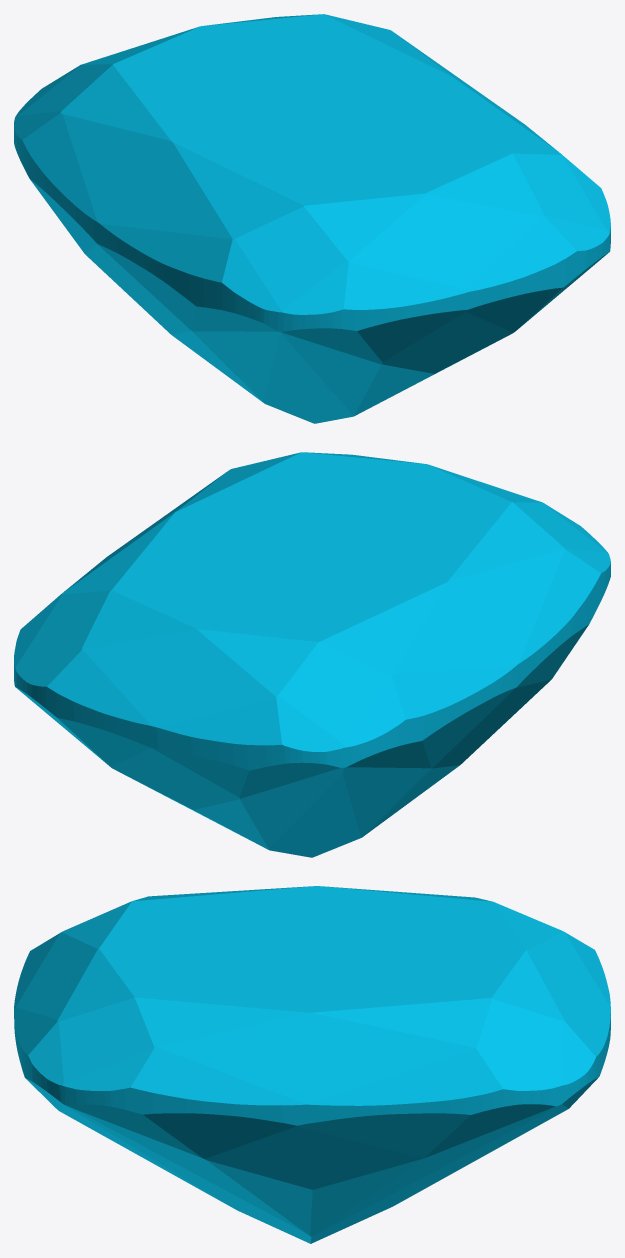
File: Head_Single Halo_Elongated Cushion_1.0ct_Diamond.glb
3 renders of one model, top to bottom at view 1: azimuth 30°, elevation 25°; view 2: azimuth 150°, elevation 25°; view 3: azimuth 270°, elevation 25°, orthographic. The views are drawn at different scales.
Size of the model in its own units: 0.00526 by 0.00375 by 0.00691.
